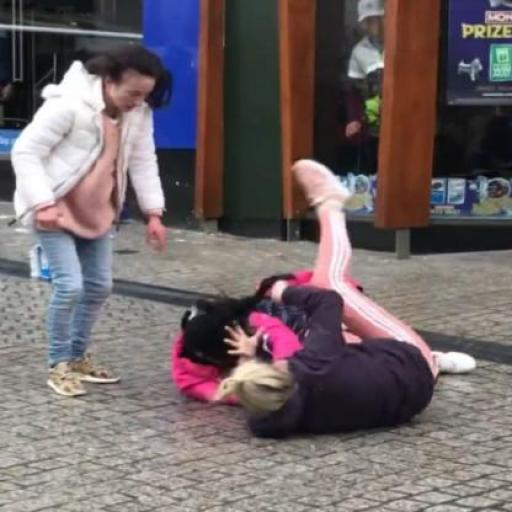Fighting: (172, 158, 481, 444)
